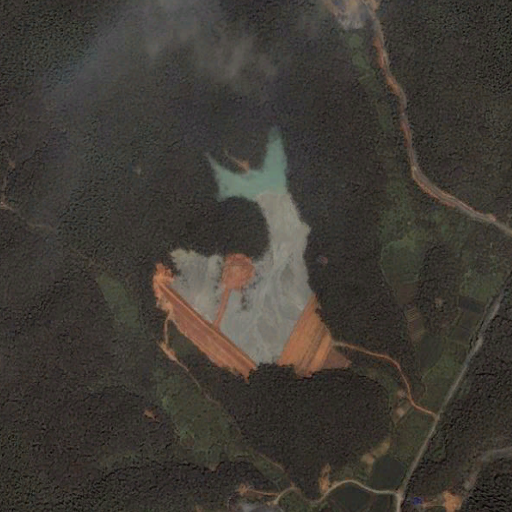tp: (153, 123, 356, 377)
